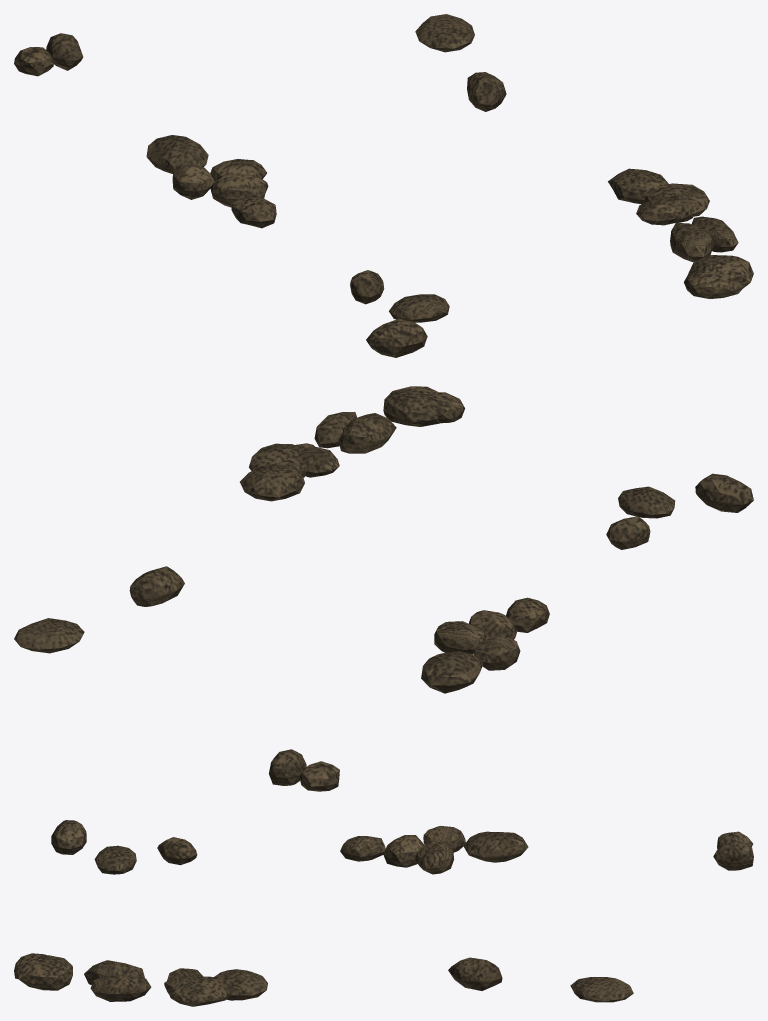
Rendered from ford-wet-stones.glb.
The picture shows the model from 3 angles, top to bottom: view 1: azimuth 30°, elevation 25°; view 2: azimuth 150°, elevation 25°; view 3: azimuth 270°, elevation 25°; orthographic projection. The views are drawn at different scales.
Parts seen in each view (by area): view 1: ford-wet-stones; view 2: ford-wet-stones; view 3: ford-wet-stones.
Boxes of the visible parts, <box> form: ford-wet-stones: <box>14,14,753,357</box>; ford-wet-stones: <box>14,386,753,791</box>; ford-wet-stones: <box>14,820,753,1006</box>.
Size of the model in its own units: 5.39 by 0.4243 by 9.6.
Materials: 1 (1 with a texture image).
